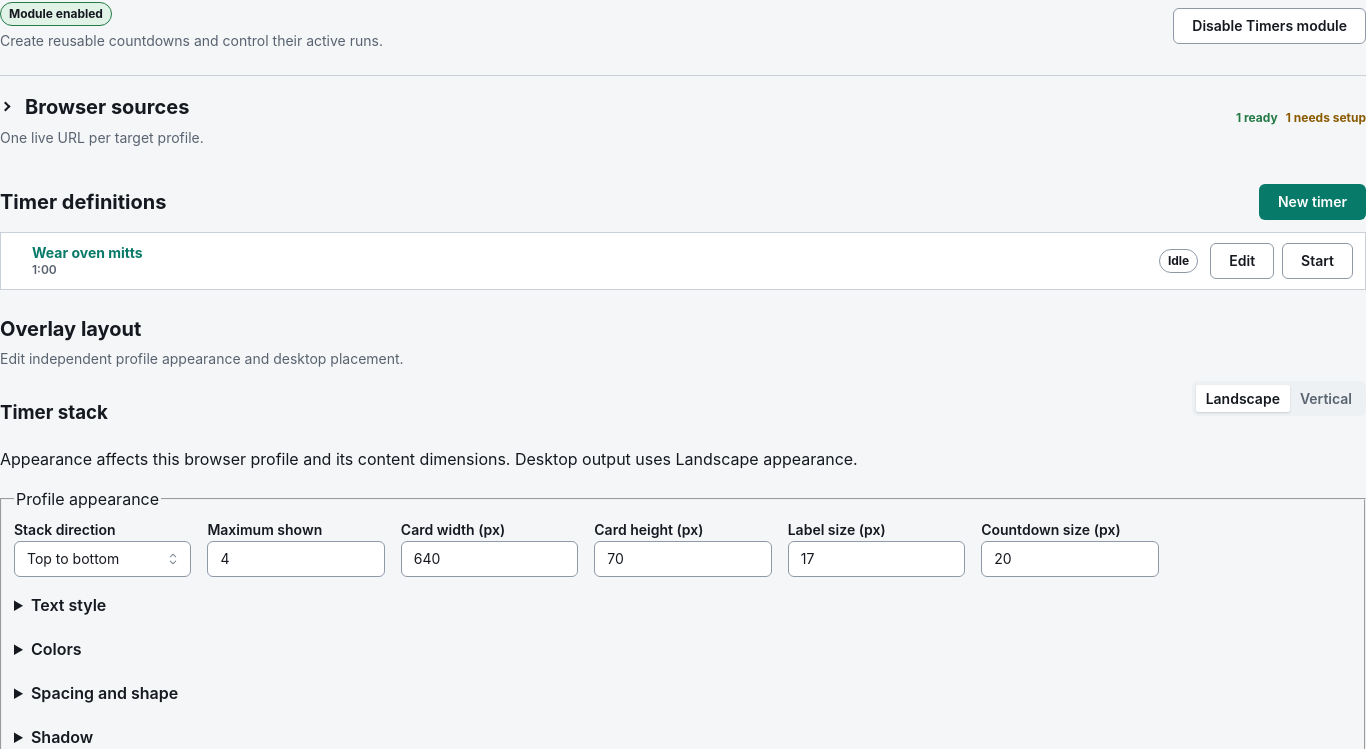
Test: keeps the timer editor closed until New timer opens the creation dialog
expect the button "Wear oven mitts 1:00" is shown: met, box top-left (13, 240), bottom-right (1147, 280)
expect the dialog "Create timer" is not shown: met
Click the button "New timer" at x=1312, y=202, box top-left (1259, 184), bottom-right (1365, 220)
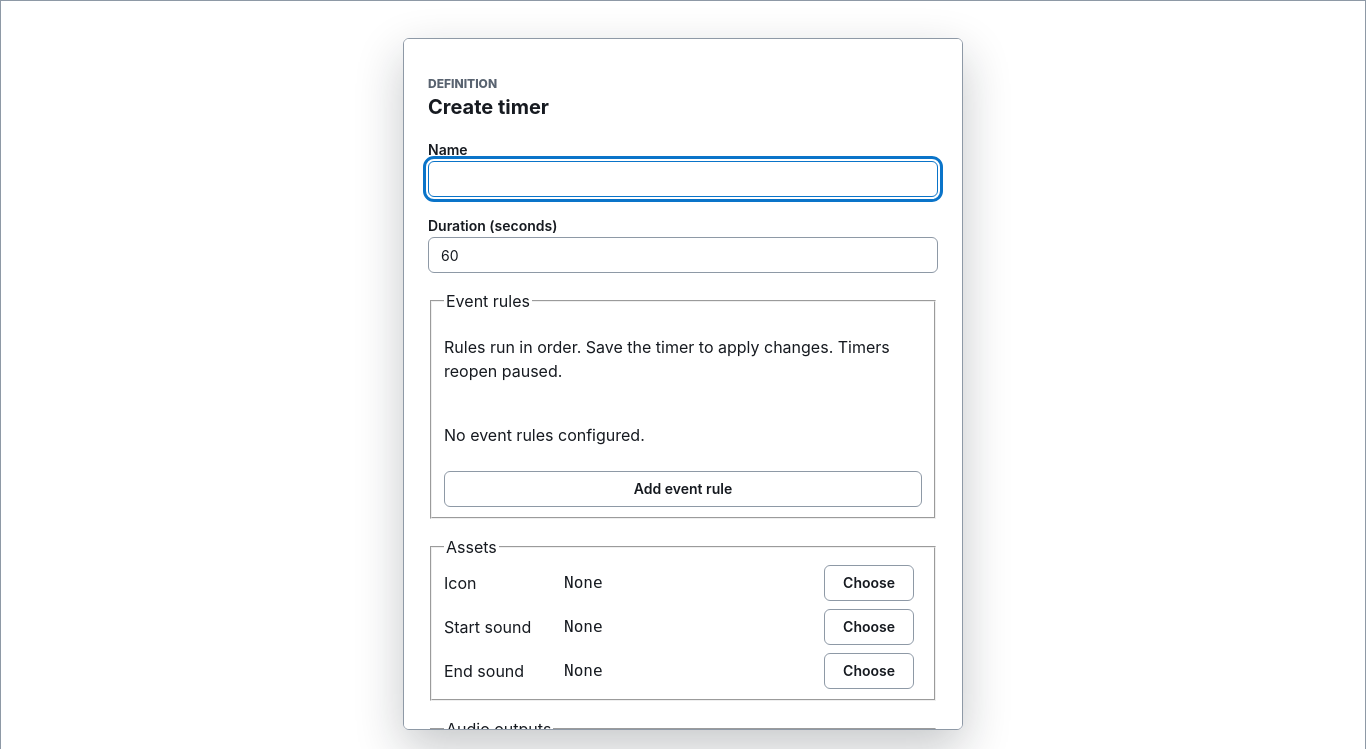
Type "Cat paws" into the field labelled "Name" at x=683, y=179, box top-left (428, 161), bottom-right (938, 197)
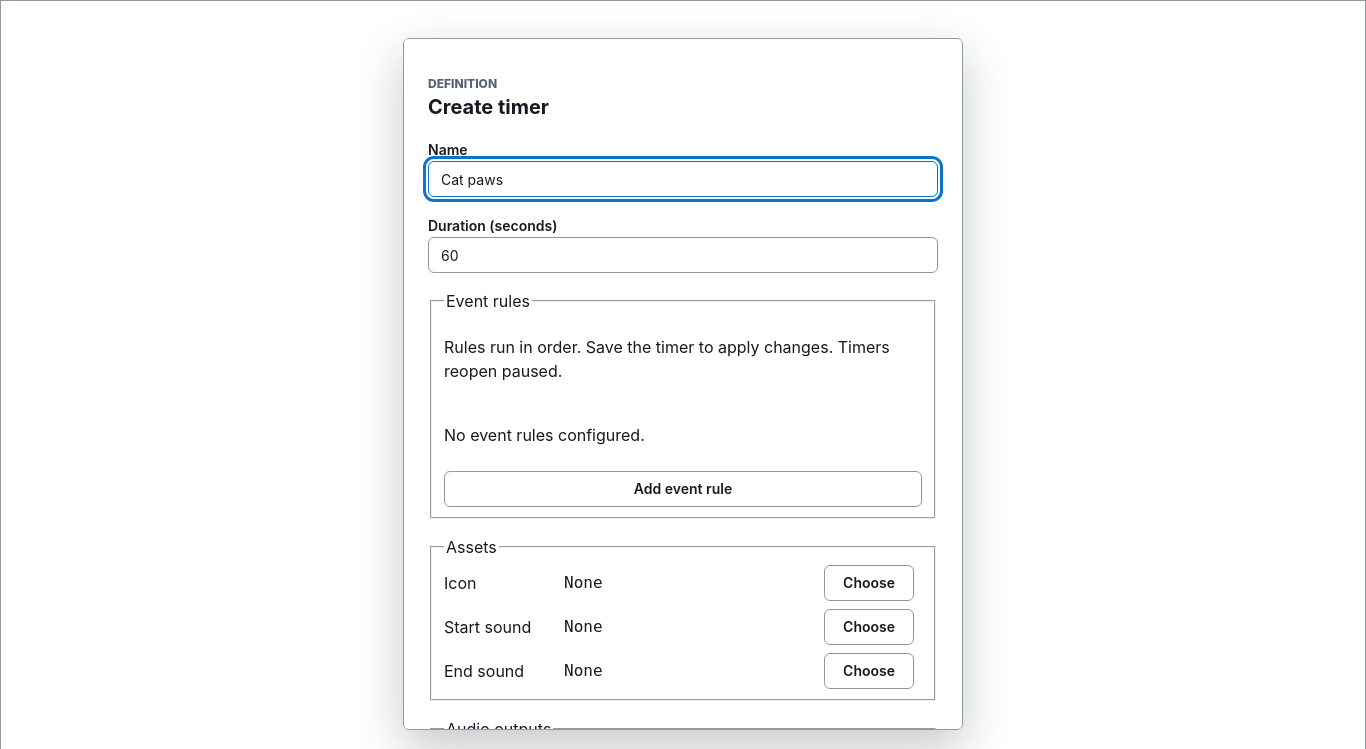
Replace the text in the number field labelled "Duration (seconds)" with "30" at x=683, y=255, box top-left (428, 237), bottom-right (938, 273)
(page scrolled)
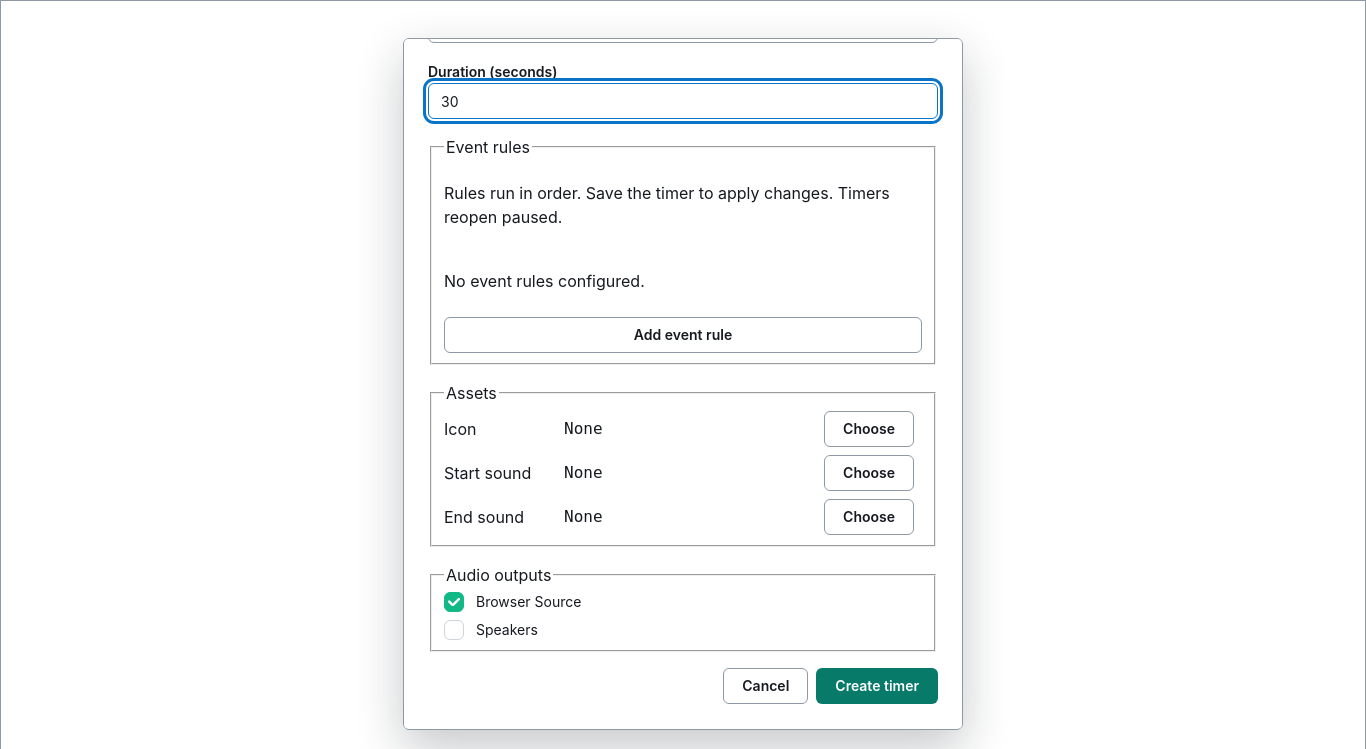
Click the button "Create timer" at x=877, y=686, box top-left (816, 668), bottom-right (938, 704)
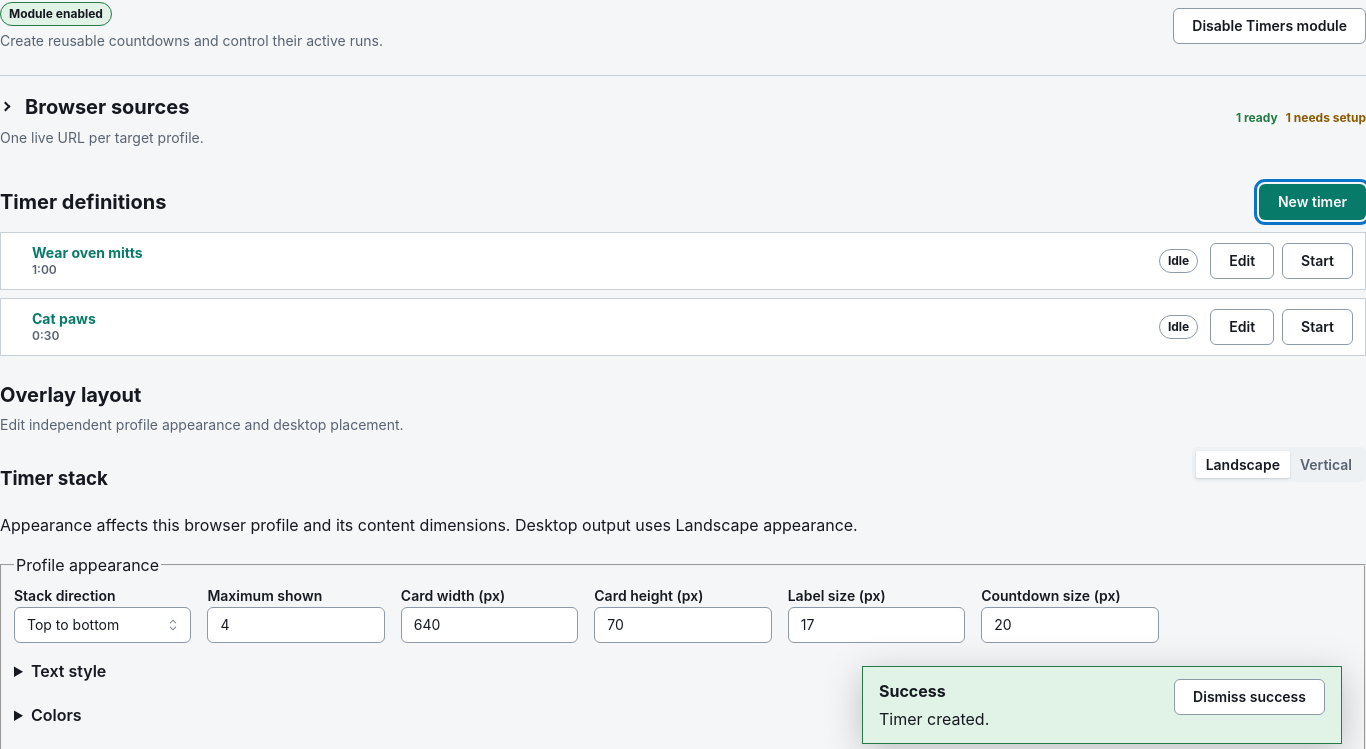
expect the button "Create timer" is gone: met
